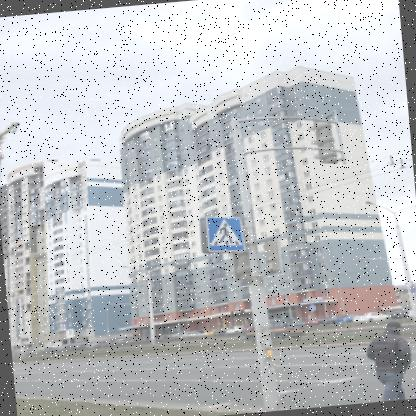crosswalk: (202, 212, 244, 255)
